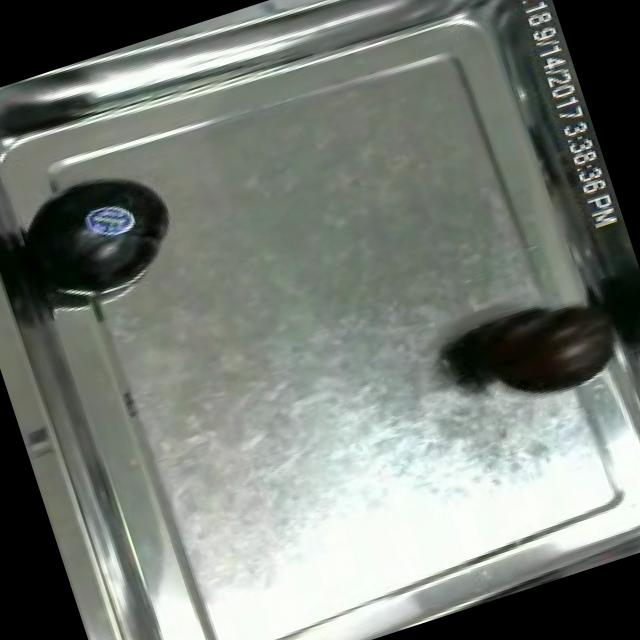Fruit: (2, 151, 200, 322), (442, 274, 637, 428)
